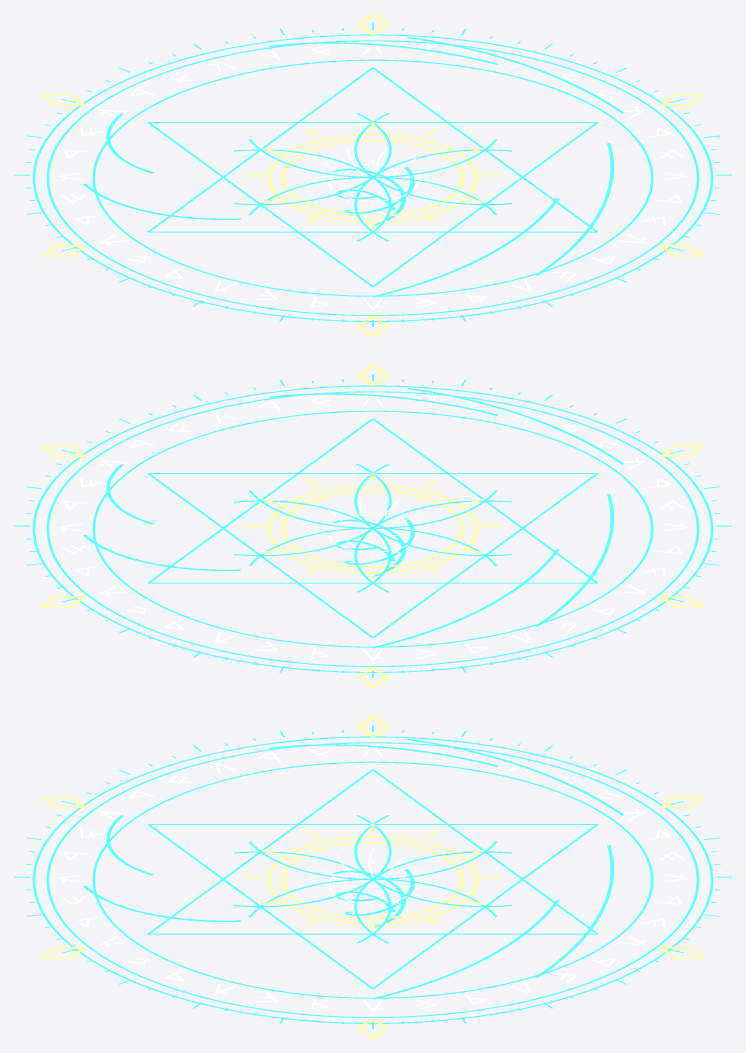
Rendered from arcane-skill-ritual.glb.
3 views of the same model, one above another, from view 1: azimuth 30°, elevation 25°; view 2: azimuth 150°, elevation 25°; view 3: azimuth 270°, elevation 25° (orthographic).
Visible parts, largest first — view 1: Ground_OuterSeals, Ground_SixfoldWeave, Ground_FocusDiamonds, Ground_Runewheel, Ground_RisingFilaments_1, Ground_RisingFilaments_0, Ground_EtchedRadials, Left_SpiralAura; view 2: Ground_OuterSeals, Ground_SixfoldWeave, Ground_FocusDiamonds, Ground_Runewheel, Ground_RisingFilaments_1, Ground_RisingFilaments_0, Ground_EtchedRadials, Left_SpiralAura; view 3: Ground_OuterSeals, Ground_SixfoldWeave, Ground_FocusDiamonds, Ground_Runewheel, Ground_RisingFilaments_1, Ground_RisingFilaments_0, Ground_EtchedRadials, Left_SpiralAura.
Part boxes in pixels (x1,y1,x2,y2): Ground_OuterSeals: [32, 34, 713, 321]; Ground_SixfoldWeave: [147, 67, 598, 286]; Ground_FocusDiamonds: [42, 14, 703, 336]; Ground_Runewheel: [57, 43, 688, 309]; Ground_RisingFilaments_1: [83, 42, 613, 275]; Ground_RisingFilaments_0: [106, 36, 624, 297]; Ground_EtchedRadials: [14, 23, 731, 326]; Left_SpiralAura: [332, 167, 414, 225]; Ground_OuterSeals: [32, 385, 713, 672]; Ground_SixfoldWeave: [147, 418, 598, 637]; Ground_FocusDiamonds: [42, 365, 703, 687]; Ground_Runewheel: [57, 394, 688, 660]; Ground_RisingFilaments_1: [83, 393, 613, 626]; Ground_RisingFilaments_0: [106, 387, 624, 648]; Ground_EtchedRadials: [14, 374, 731, 677]; Left_SpiralAura: [332, 518, 414, 576]; Ground_OuterSeals: [32, 736, 713, 1023]; Ground_SixfoldWeave: [147, 769, 598, 988]; Ground_FocusDiamonds: [42, 716, 703, 1038]; Ground_Runewheel: [57, 745, 688, 1011]; Ground_RisingFilaments_1: [83, 744, 613, 977]; Ground_RisingFilaments_0: [106, 738, 624, 999]; Ground_EtchedRadials: [14, 725, 731, 1028]; Left_SpiralAura: [332, 869, 414, 927].
Size of the model in its own units: 0.00383 by 0.000437 by 0.0036.
